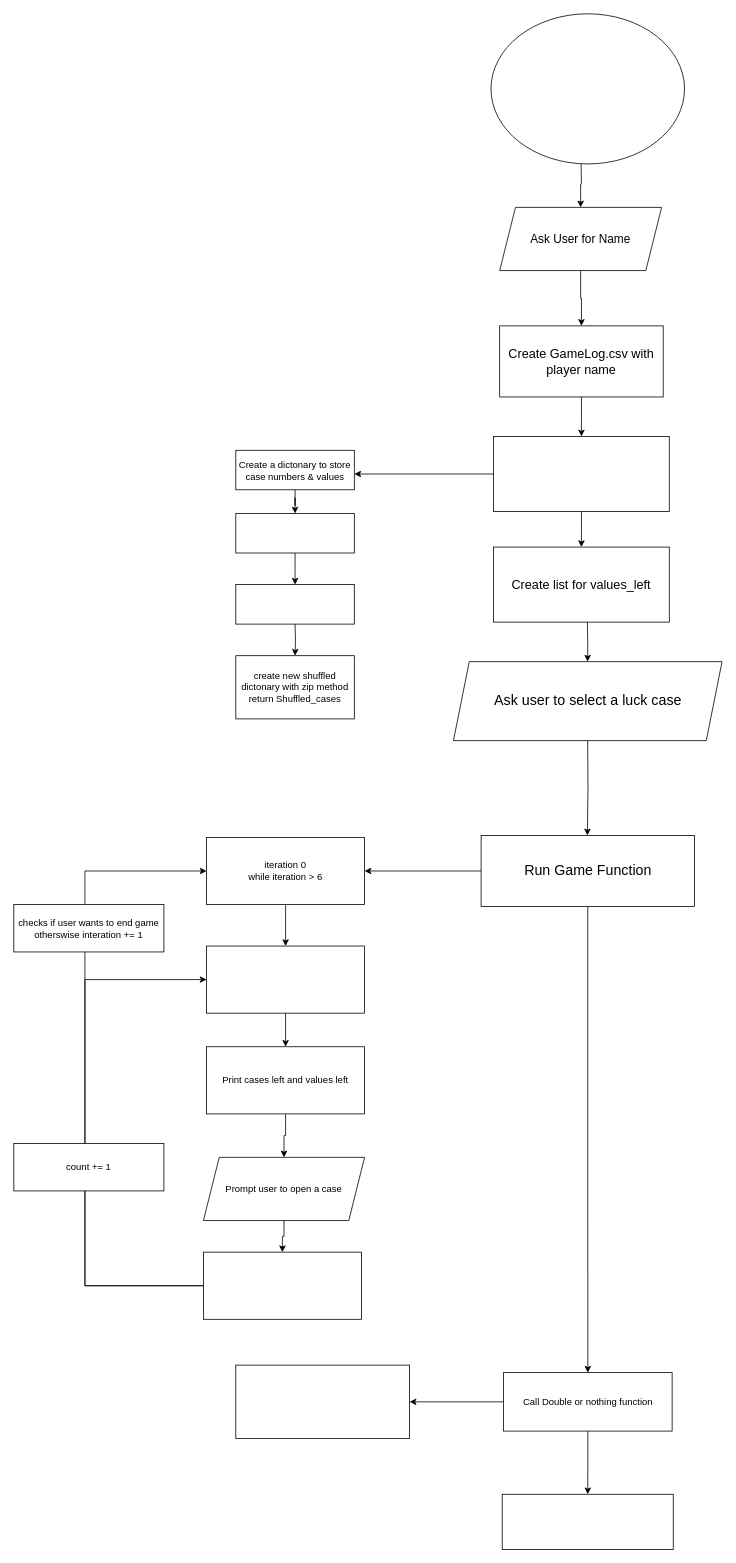
Image size: 736x1563. Some labels were removed from this diagram. Here are the shapes that lost their labels. From the top down, the centre of each, then its label:
pixel 587 88: Start Application
pixel 581 474: Return shuffler function
pixel 294 533: Create a list with all values
pixel 294 604: Shuffle the list values
pixel 285 979: count 6 While count < 0
pixel 282 1285: remove users choice from cases left, remove from shuffled dictonary
pixel 587 1521: Checks if user want to play again
